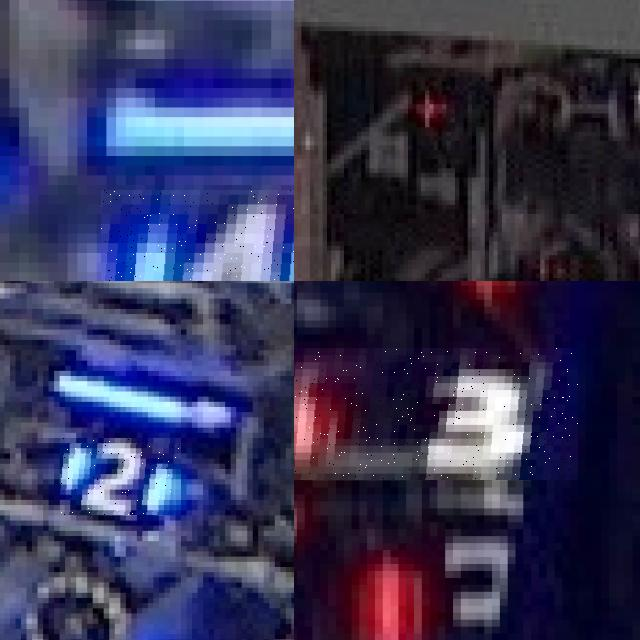B2: (60, 438, 181, 515)
B4: (101, 189, 294, 281)
R3: (294, 348, 577, 480), (343, 515, 523, 640)
